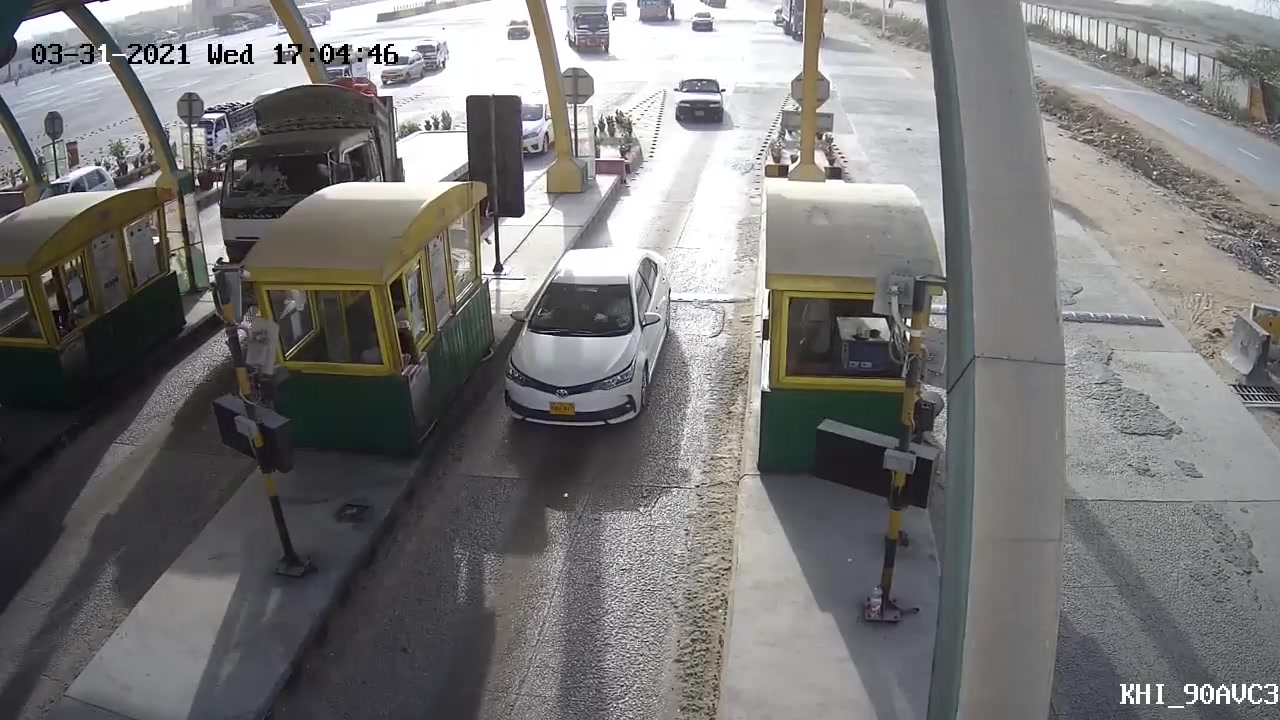F1: (482, 242, 679, 439), (668, 72, 734, 126)
